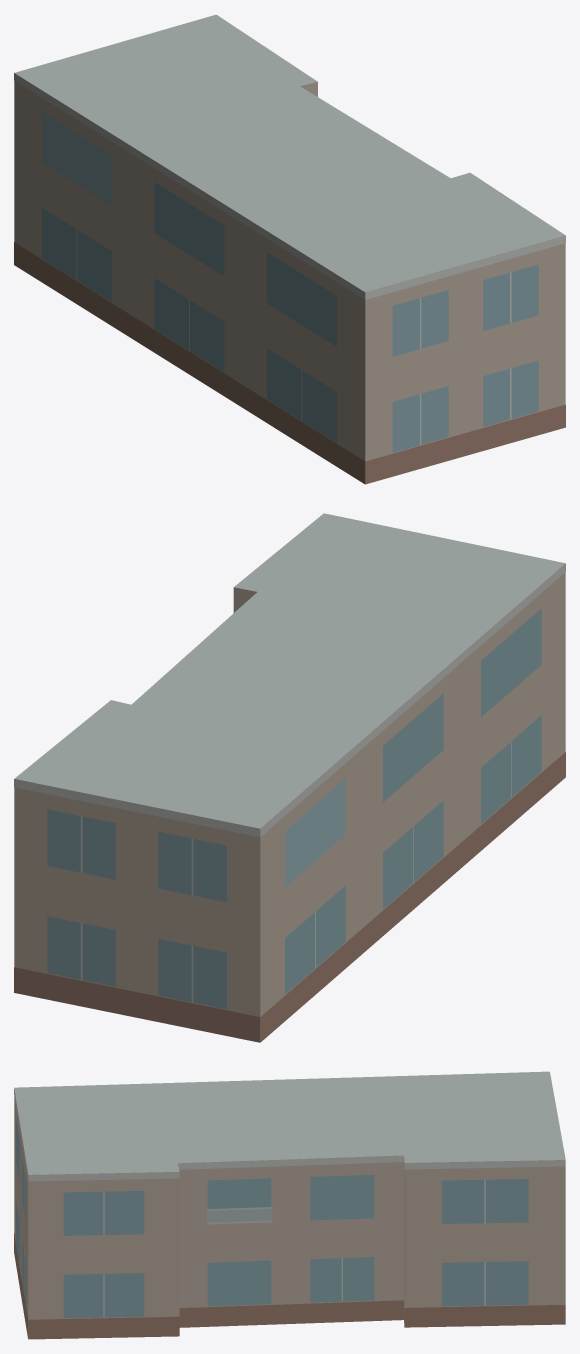
Rendered from survey-upis-32993909.glb.
3 renders of one model, top to bottom at view 1: azimuth 30°, elevation 25°; view 2: azimuth 150°, elevation 25°; view 3: azimuth 270°, elevation 25°, orthographic. The views are drawn at different scales.
Visible parts, largest first — view 1: survey-upis-32993909.tmp; view 2: survey-upis-32993909.tmp; view 3: survey-upis-32993909.tmp.
Boxes of the visible parts, <box> form: survey-upis-32993909.tmp: <box>14,14,565,484</box>; survey-upis-32993909.tmp: <box>14,513,565,1042</box>; survey-upis-32993909.tmp: <box>14,1071,565,1339</box>.
Bounding box in the file's own units: 8.23 × 6.1 × 18.55.
